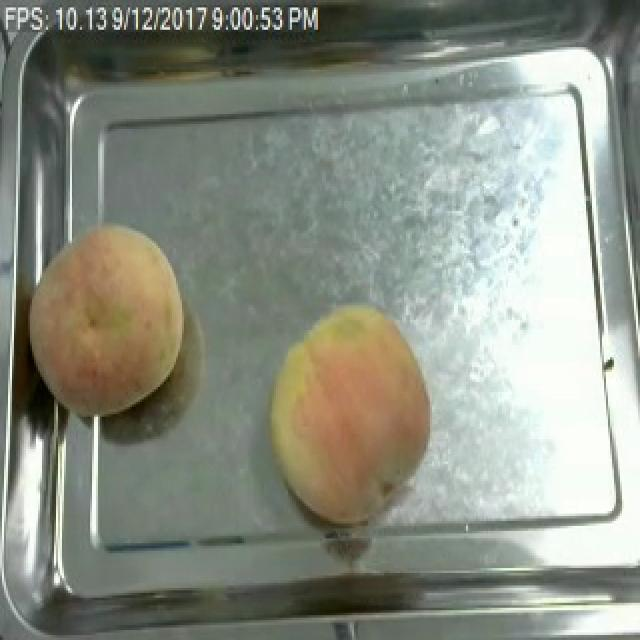Fruit: (258, 298, 444, 528), (16, 208, 194, 427)
